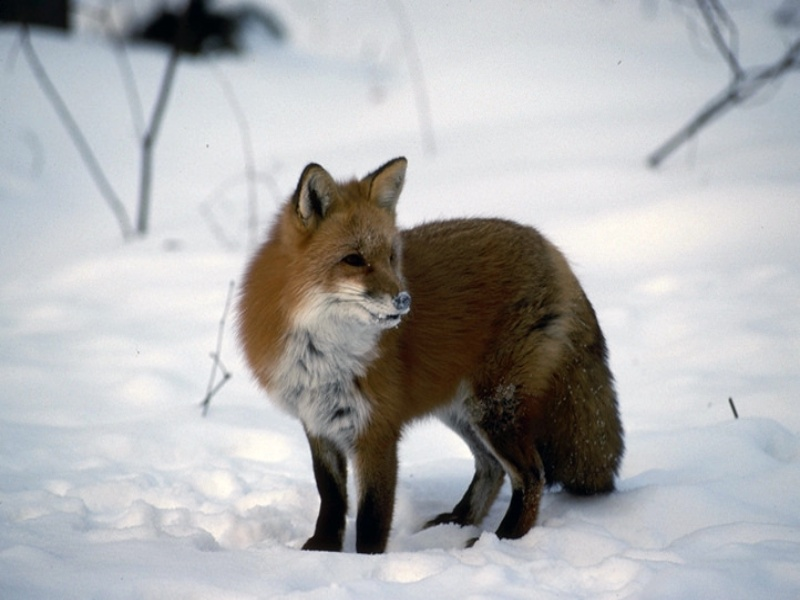fox: (232, 155, 633, 560)
